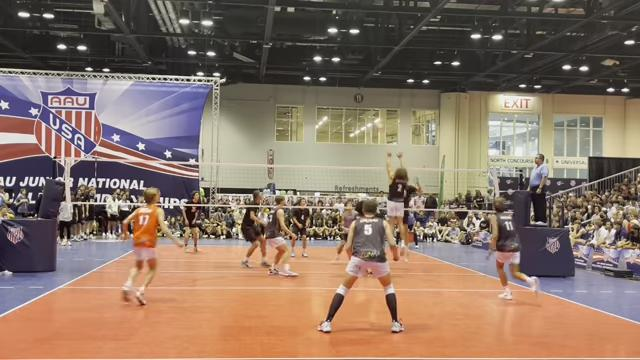attacco: (401, 168, 423, 256)
muro: (384, 148, 417, 265)
